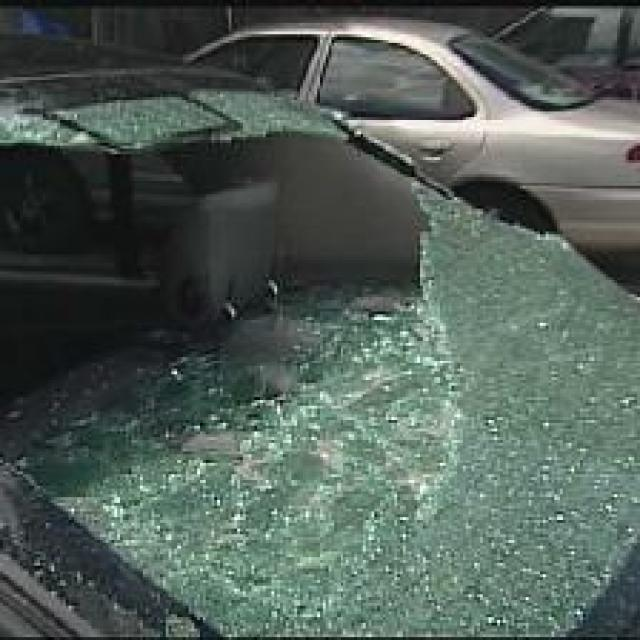damaged: (2, 85, 638, 638)
